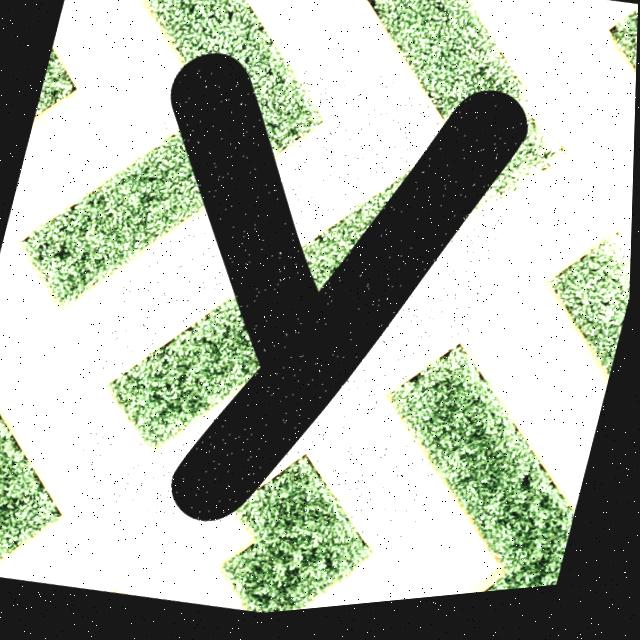Y: (171, 57, 528, 526)
